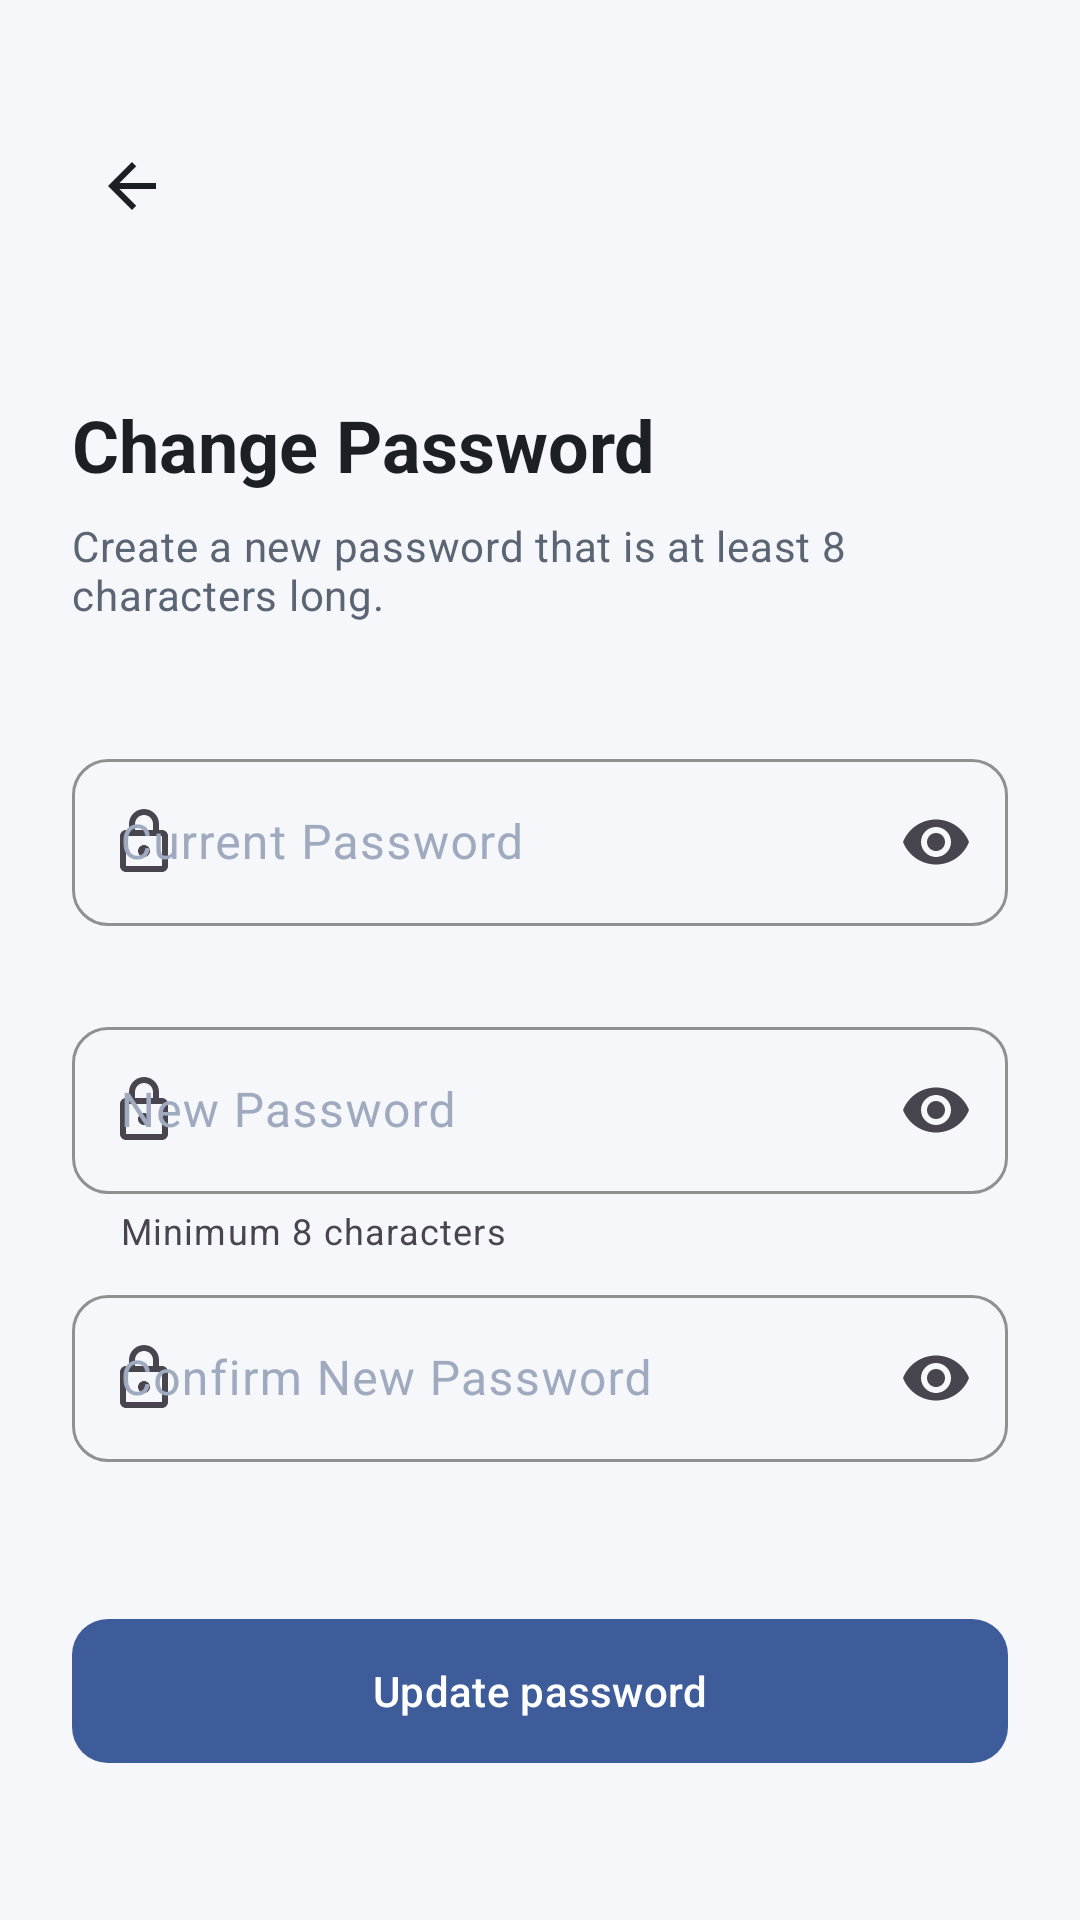

Icon click points for this 1080×1920 phone screenshot, format [x,y]:
back: [132,186]
